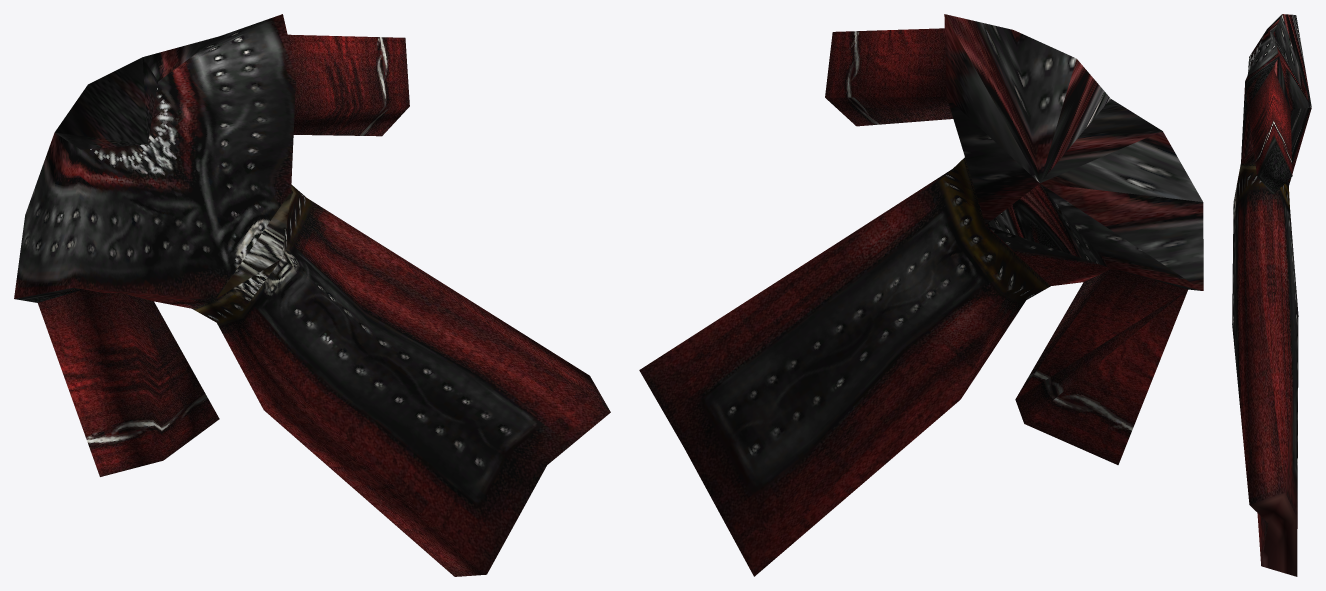
3 views of the same model, side by side, from view 1: azimuth 30°, elevation 25°; view 2: azimuth 150°, elevation 25°; view 3: azimuth 270°, elevation 25° (orthographic). The views are drawn at different scales.
Parts seen in each view (by area): view 1: KDFL; view 2: KDFL; view 3: KDFL.
Part boxes in pixels (<box>): KDFL: <box>14,14,610,576</box>; KDFL: <box>639,14,1203,576</box>; KDFL: <box>1232,14,1311,576</box>.
Bounding box in the file's own units: 99.54 × 101 × 16.08.
